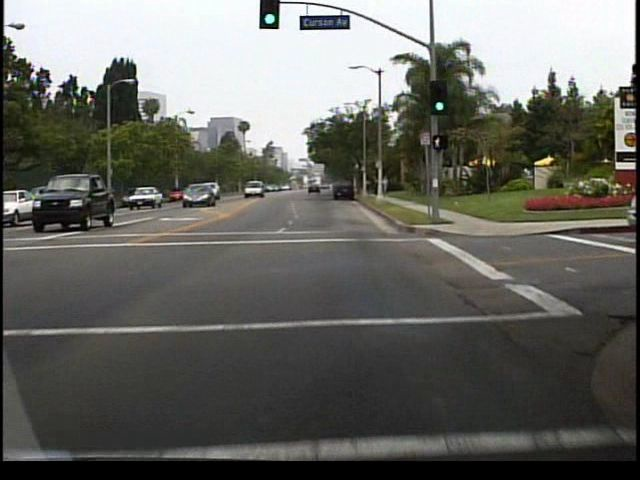person: (373, 176, 382, 200), (381, 172, 390, 194)
